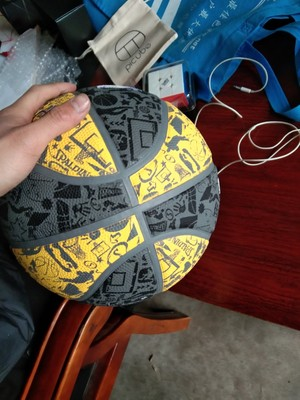ball: (1, 84, 222, 309)
